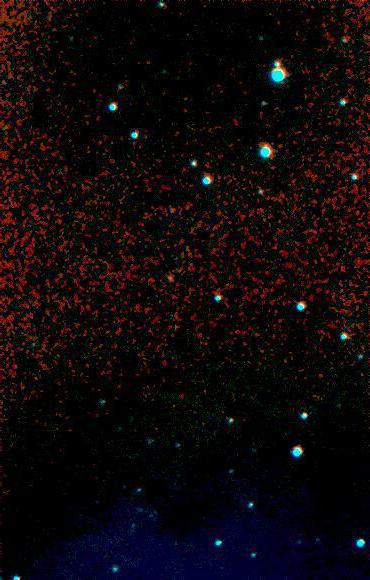star: (164, 528, 194, 558)
